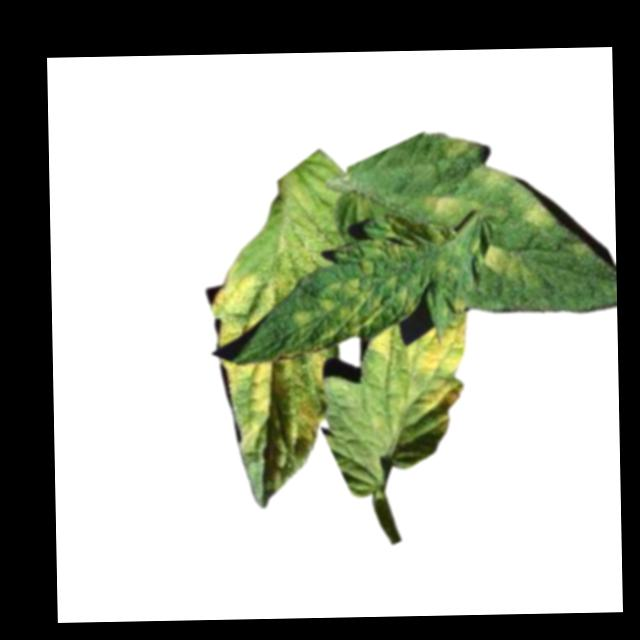Leaf_Mold: (289, 243, 423, 360), (369, 312, 475, 435), (223, 356, 332, 462), (209, 261, 282, 354), (483, 240, 528, 283), (425, 190, 475, 221), (521, 197, 561, 231), (442, 136, 481, 165)
